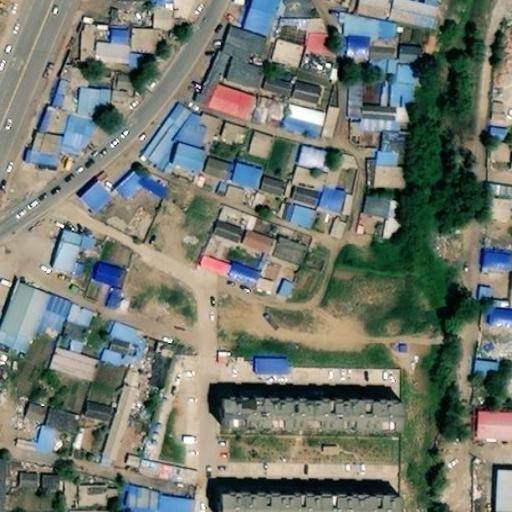building: (222, 404, 405, 441), (103, 379, 147, 469), (0, 294, 53, 367), (142, 117, 192, 183), (222, 499, 404, 512), (116, 179, 167, 222), (53, 242, 97, 289), (195, 64, 229, 122), (345, 23, 401, 58), (245, 2, 283, 52), (346, 87, 391, 128), (223, 39, 273, 75), (390, 11, 443, 44), (60, 127, 99, 169), (212, 98, 257, 134), (52, 362, 101, 395), (214, 216, 253, 257), (225, 69, 268, 106), (60, 313, 96, 357), (285, 115, 328, 151), (25, 141, 64, 179), (40, 309, 73, 349), (91, 371, 122, 413), (81, 196, 117, 232), (272, 249, 312, 281), (176, 126, 207, 165), (270, 52, 305, 85), (79, 99, 111, 135), (174, 159, 208, 191), (290, 95, 326, 124), (242, 240, 278, 269), (19, 437, 59, 463), (478, 423, 512, 453), (298, 158, 333, 187), (298, 65, 333, 94), (358, 3, 390, 34), (255, 108, 287, 139), (233, 176, 267, 205), (375, 174, 409, 203), (92, 274, 126, 303), (203, 168, 239, 194), (45, 418, 81, 443), (263, 86, 296, 113), (113, 333, 146, 359), (102, 355, 136, 380), (249, 144, 278, 173), (277, 11, 315, 33), (366, 65, 399, 90), (72, 78, 113, 98), (133, 41, 165, 66), (250, 353, 288, 374), (320, 198, 347, 226), (389, 92, 416, 119), (43, 121, 70, 148), (98, 53, 131, 75), (202, 266, 233, 289), (126, 494, 165, 512), (56, 94, 79, 124), (361, 125, 400, 142), (489, 319, 512, 347), (78, 493, 111, 512), (155, 0, 174, 33), (489, 207, 512, 234), (290, 218, 317, 241), (365, 206, 390, 230), (307, 44, 337, 64), (261, 188, 288, 210), (396, 73, 425, 93), (483, 264, 512, 284), (348, 47, 371, 72), (398, 56, 425, 76), (82, 37, 96, 75), (223, 135, 247, 157), (385, 142, 410, 163), (62, 482, 79, 512), (113, 95, 138, 115), (13, 468, 37, 488), (255, 288, 280, 306), (497, 483, 512, 512), (477, 370, 503, 386), (26, 415, 49, 433), (378, 162, 409, 175), (487, 193, 512, 209), (43, 484, 64, 502), (485, 122, 507, 139), (229, 196, 248, 215), (473, 281, 492, 299), (333, 230, 349, 249), (279, 292, 295, 310), (280, 215, 295, 234), (113, 42, 132, 55)
